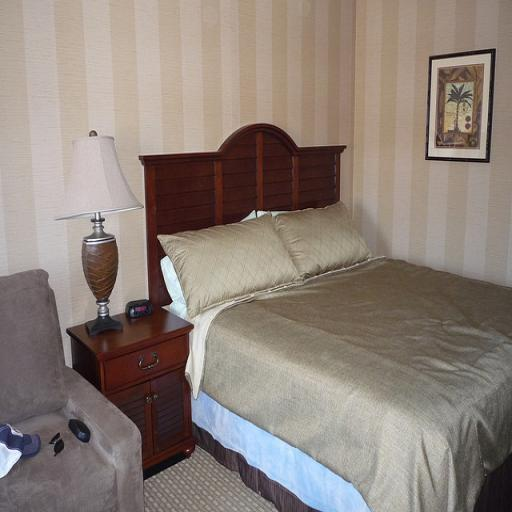bed: (128, 115, 509, 512)
